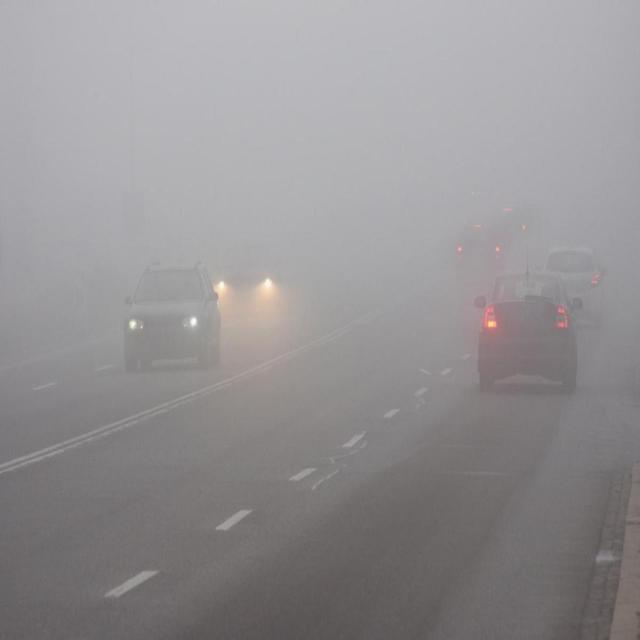car: (475, 277, 581, 392), (121, 262, 221, 374), (213, 240, 285, 322), (542, 246, 600, 314), (454, 219, 502, 275), (492, 200, 532, 240)
